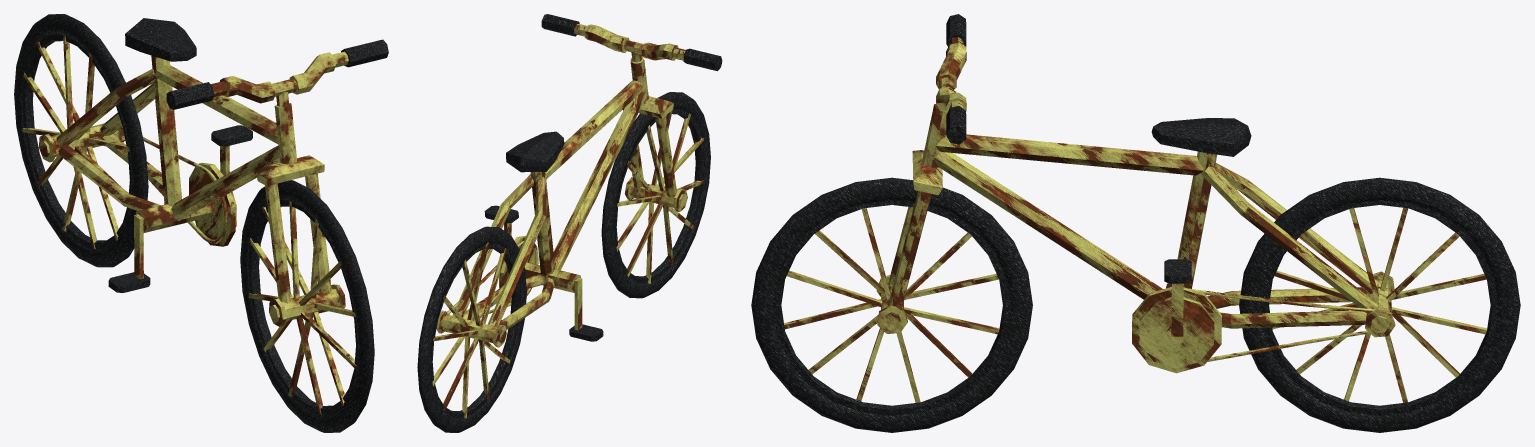
The model's file is Bici.fbx.
3 views of the same model, side by side, from view 1: azimuth 30°, elevation 25°; view 2: azimuth 150°, elevation 25°; view 3: azimuth 270°, elevation 25° (orthographic). The views are drawn at different scales.
Visible parts, largest first — view 1: Object037; view 2: Object037; view 3: Object037.
Boxes of the visible parts, x1,y1,x2,y2 form: Object037: (14, 14, 388, 432); Object037: (417, 14, 722, 432); Object037: (751, 14, 1520, 432).
Size of the model in its own units: 245 by 371 by 712.
